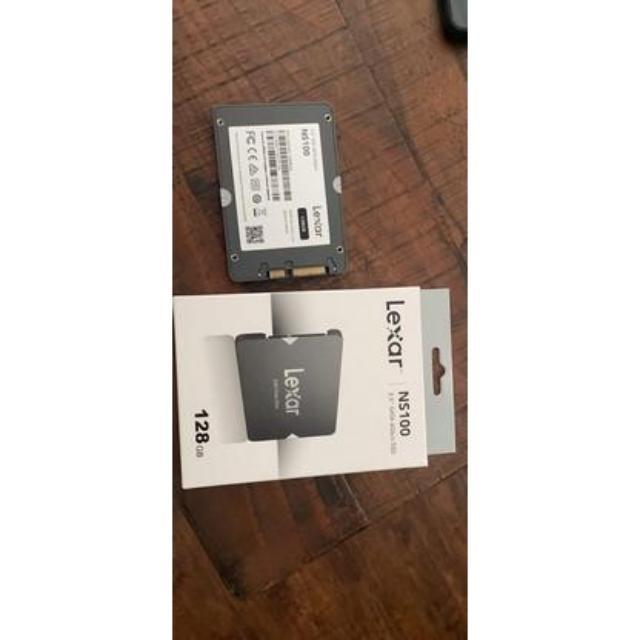DISK: (212, 96, 352, 287)
